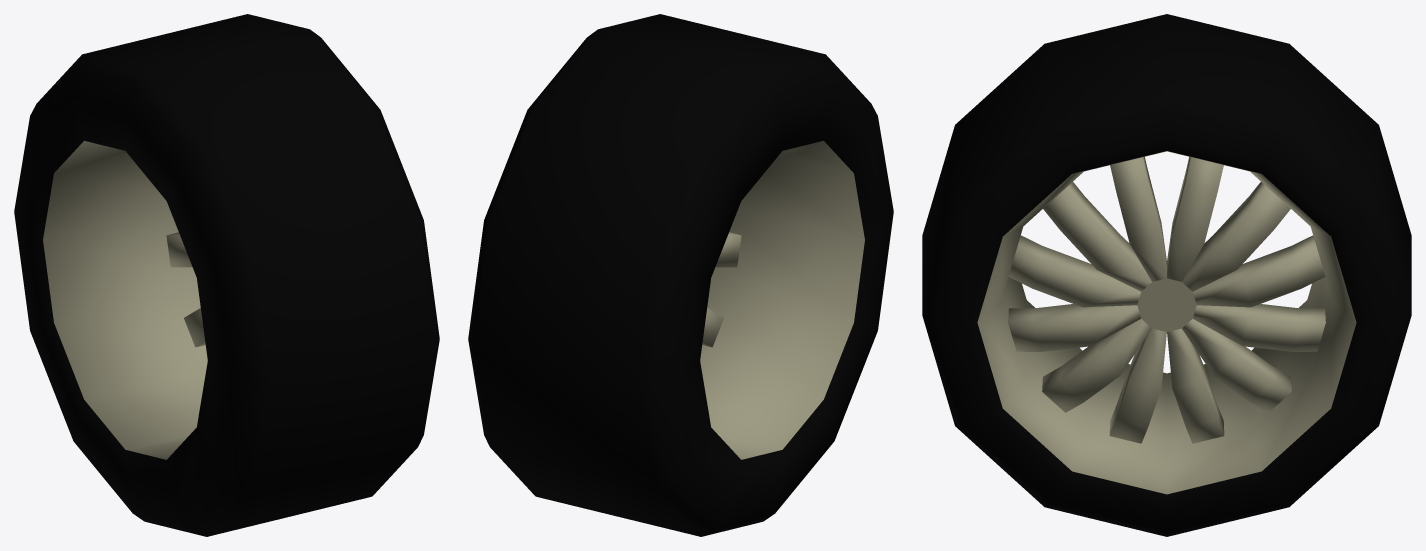
The model's file is skyline_wheel.glb.
3 views of the same model, side by side, from view 1: azimuth 30°, elevation 25°; view 2: azimuth 150°, elevation 25°; view 3: azimuth 270°, elevation 25° (orthographic).
Parts seen in each view (by area): view 1: wheels; view 2: wheels; view 3: wheels.
Boxes of the visible parts, x1,y1,x2,y2 form: wheels: (14, 14, 439, 536); wheels: (468, 14, 893, 536); wheels: (922, 14, 1411, 536).
Bounding box in the file's own units: 0.2778 × 0.5986 × 0.5986.
